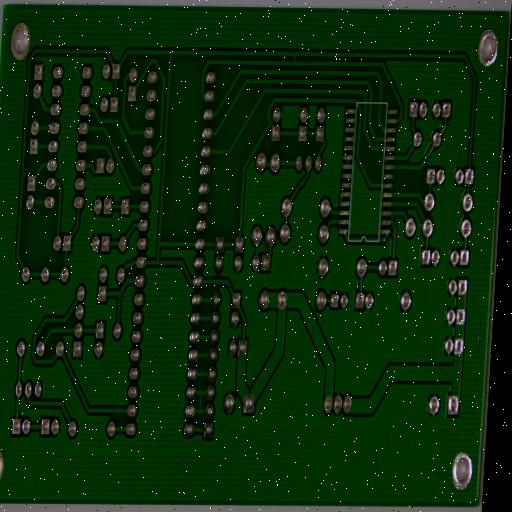short_circuit: (194, 390, 207, 416), (372, 134, 383, 152), (387, 210, 397, 228), (289, 52, 300, 68)
